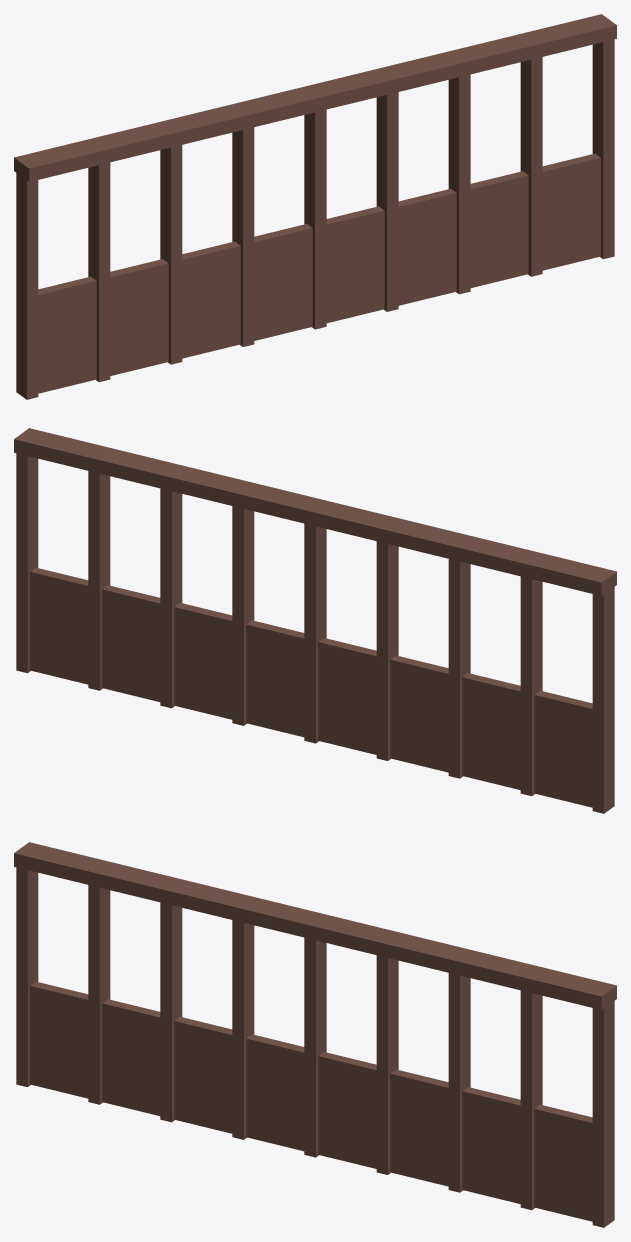
The model's file is ladder_010.fbx.
The picture shows the model from 3 angles, top to bottom: view 1: azimuth 30°, elevation 25°; view 2: azimuth 150°, elevation 25°; view 3: azimuth 330°, elevation 25°; orthographic projection.
Visible parts, largest first — view 1: ladder_010; view 2: ladder_010; view 3: ladder_010.
Boxes of the visible parts, x1,y1,x2,y2 form: ladder_010: (14,14,616,399); ladder_010: (14,428,616,813); ladder_010: (14,842,616,1227).
Bounding box in the file's own units: 200 × 8.98 × 75.74.
